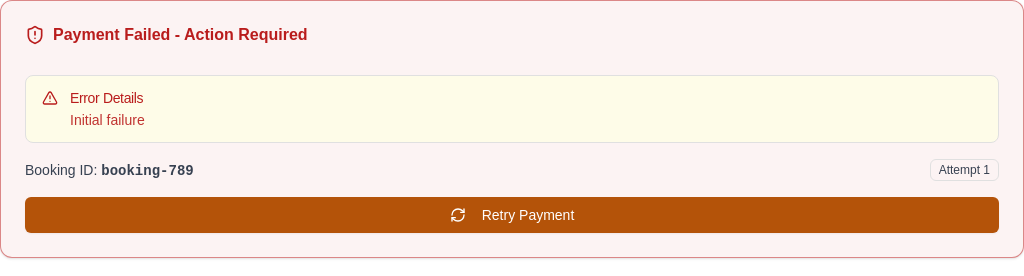
Test: PaymentRetry Component › handles key failure mode and allows subsequent attempts
Click the button "Retry Payment".
click(512, 215)  # box [25,197,999,233]
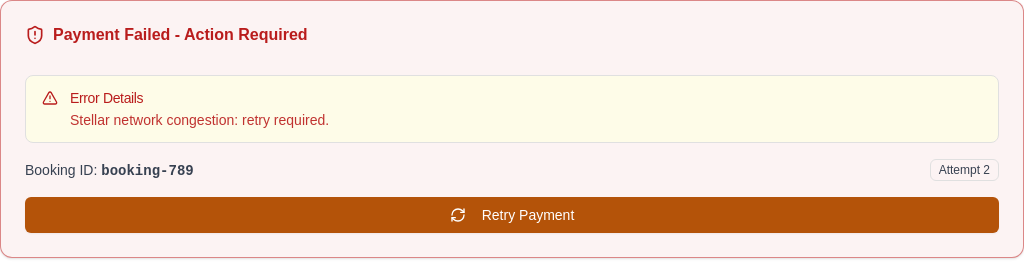
Check: the text "Stellar network congestion: retry required." is shown, box [70,112,329,128]
